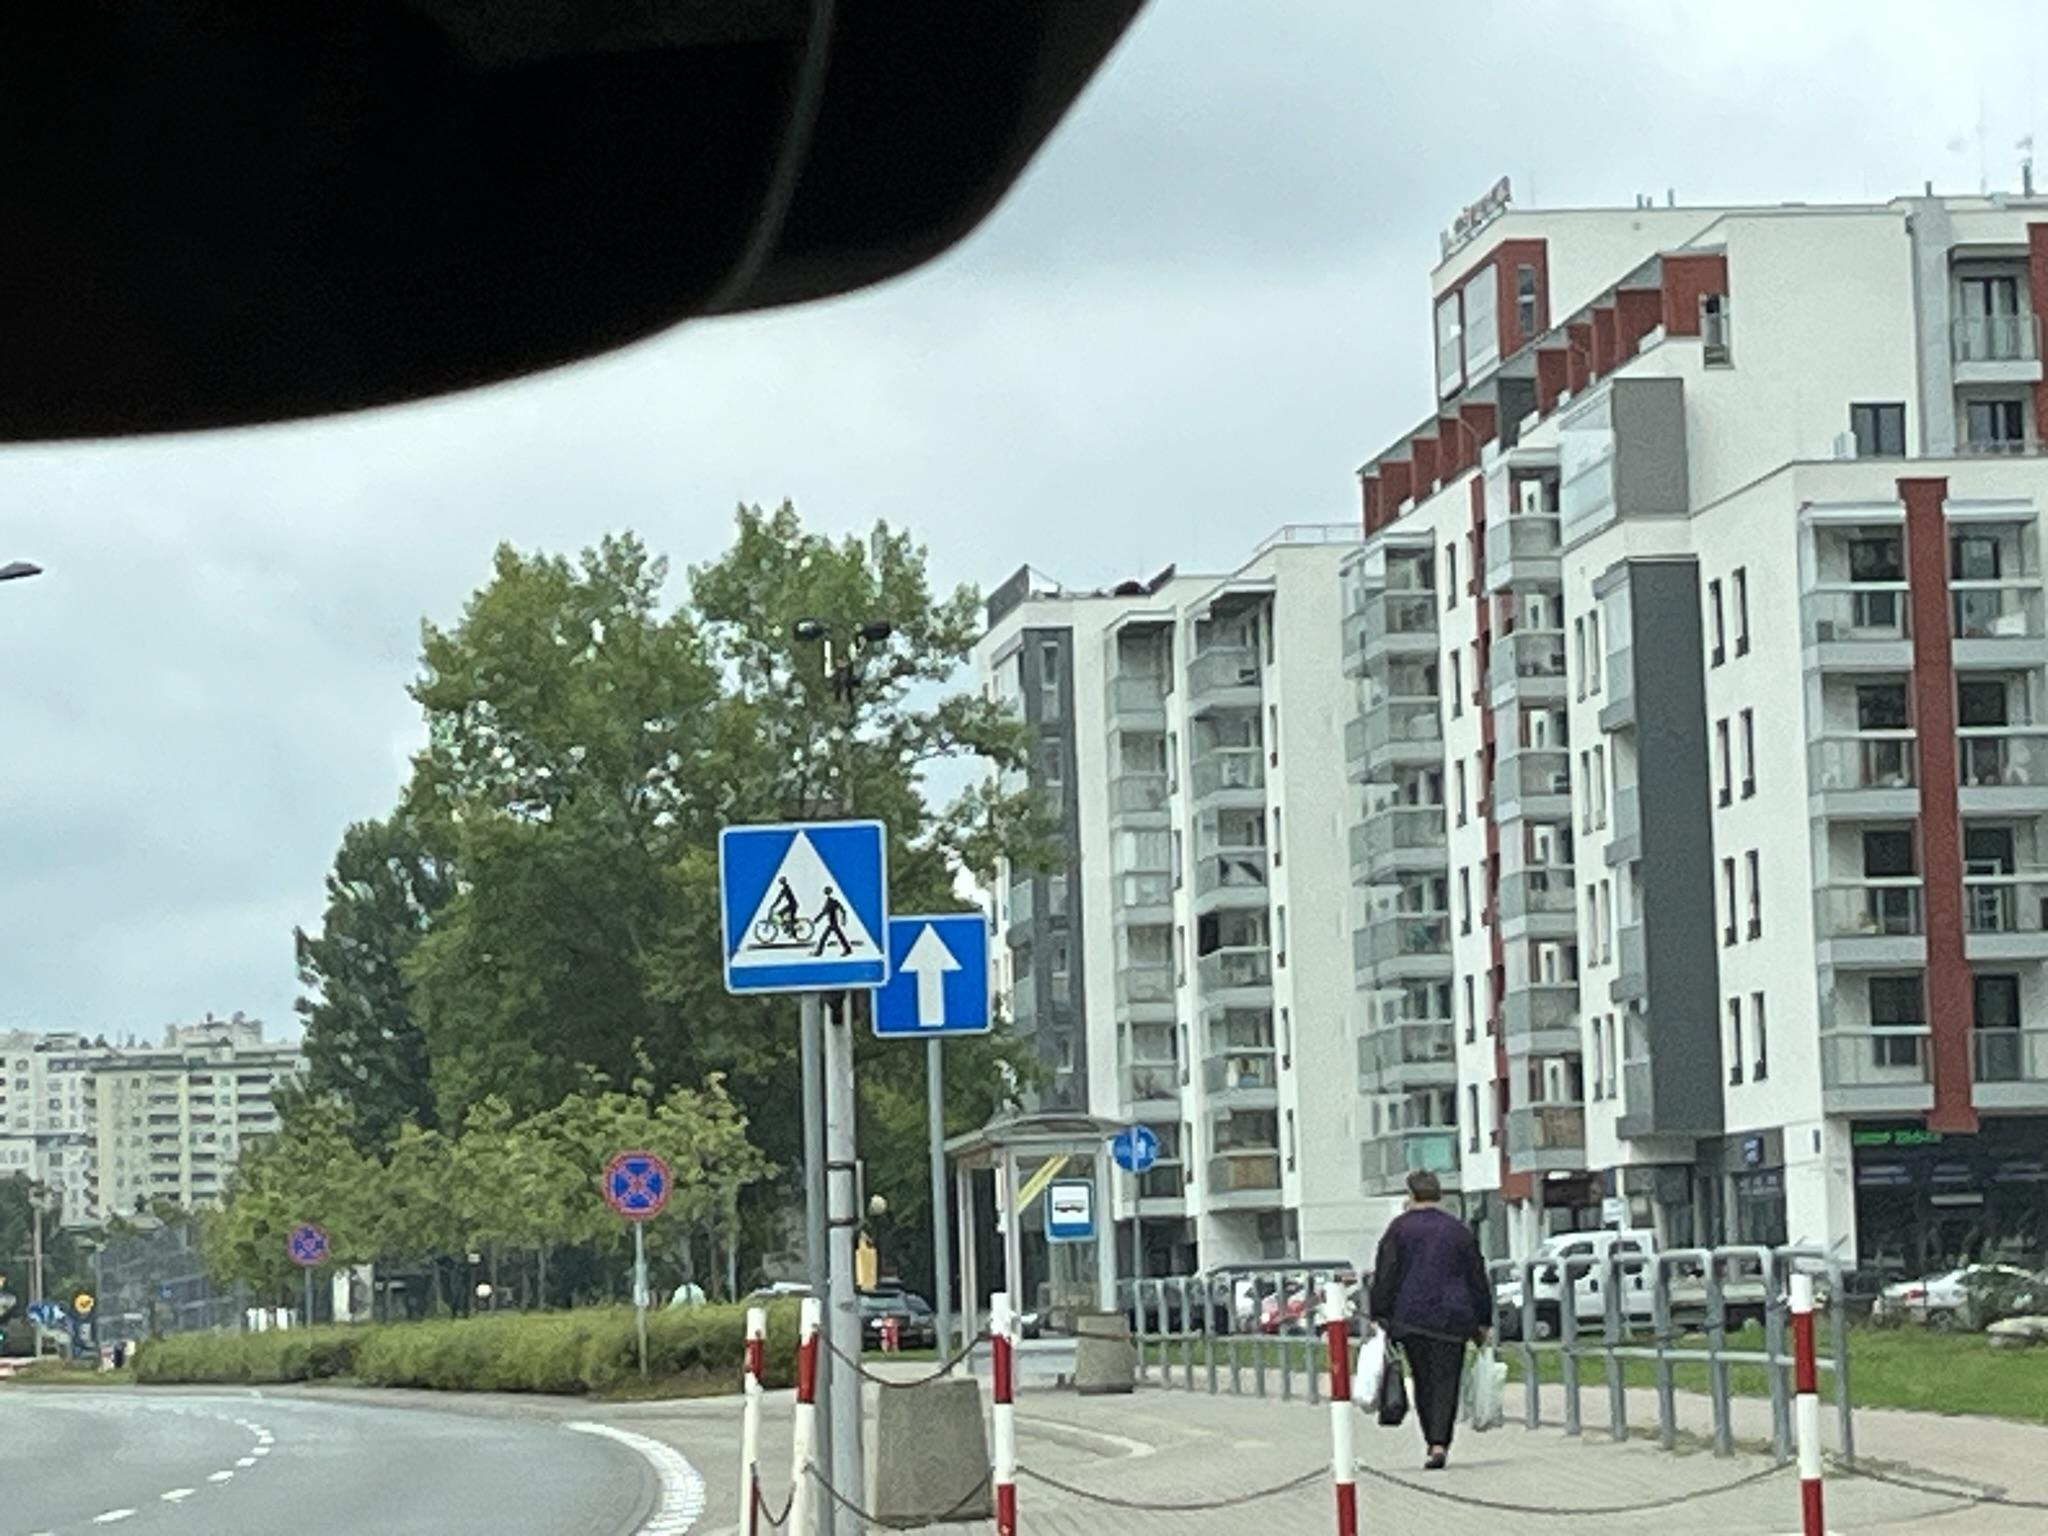information: (718, 824, 898, 995), (872, 912, 992, 1042)
mandatory: (1111, 1126, 1163, 1175)
other: (29, 1300, 68, 1326)
prohibitory: (603, 1149, 671, 1223), (287, 1221, 332, 1270)
